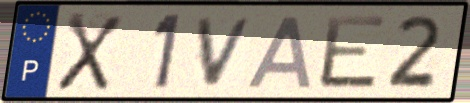1: (149, 11, 183, 93)
2: (384, 13, 443, 91)
A: (244, 13, 317, 91)
E: (317, 13, 390, 92)
V: (195, 15, 259, 89)
X: (53, 10, 126, 93)
